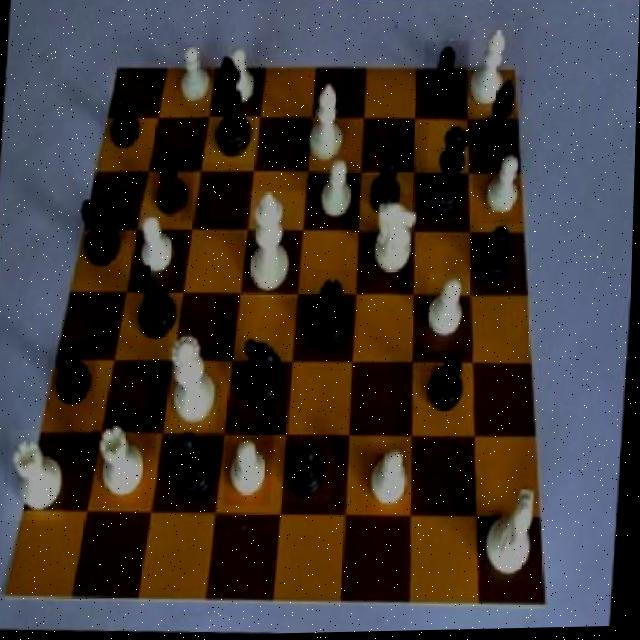bishop: (168, 424, 224, 511), (476, 77, 524, 162)
black-bishop: (202, 54, 262, 167)
black-king: (238, 331, 295, 425), (129, 258, 184, 351)
black-knight: (364, 156, 418, 224), (47, 346, 100, 414), (427, 352, 475, 425), (287, 437, 336, 506), (422, 41, 469, 112), (473, 223, 524, 288), (105, 83, 149, 157), (152, 154, 198, 222)
black-pawn: (424, 122, 479, 227)
black-queen: (73, 188, 130, 282), (309, 271, 364, 355)
black-rook: (468, 22, 515, 123), (304, 81, 353, 173)
white-bishop: (243, 192, 306, 302)
white-king: (480, 481, 546, 587), (367, 194, 420, 289)
white-knight: (361, 443, 420, 517), (136, 201, 185, 285), (426, 276, 475, 354), (212, 40, 263, 114), (227, 431, 276, 507), (483, 149, 526, 227), (312, 154, 358, 225), (177, 39, 216, 109)
white-pawn: (167, 333, 223, 430)
white-queen: (91, 419, 160, 510), (8, 429, 71, 523)
